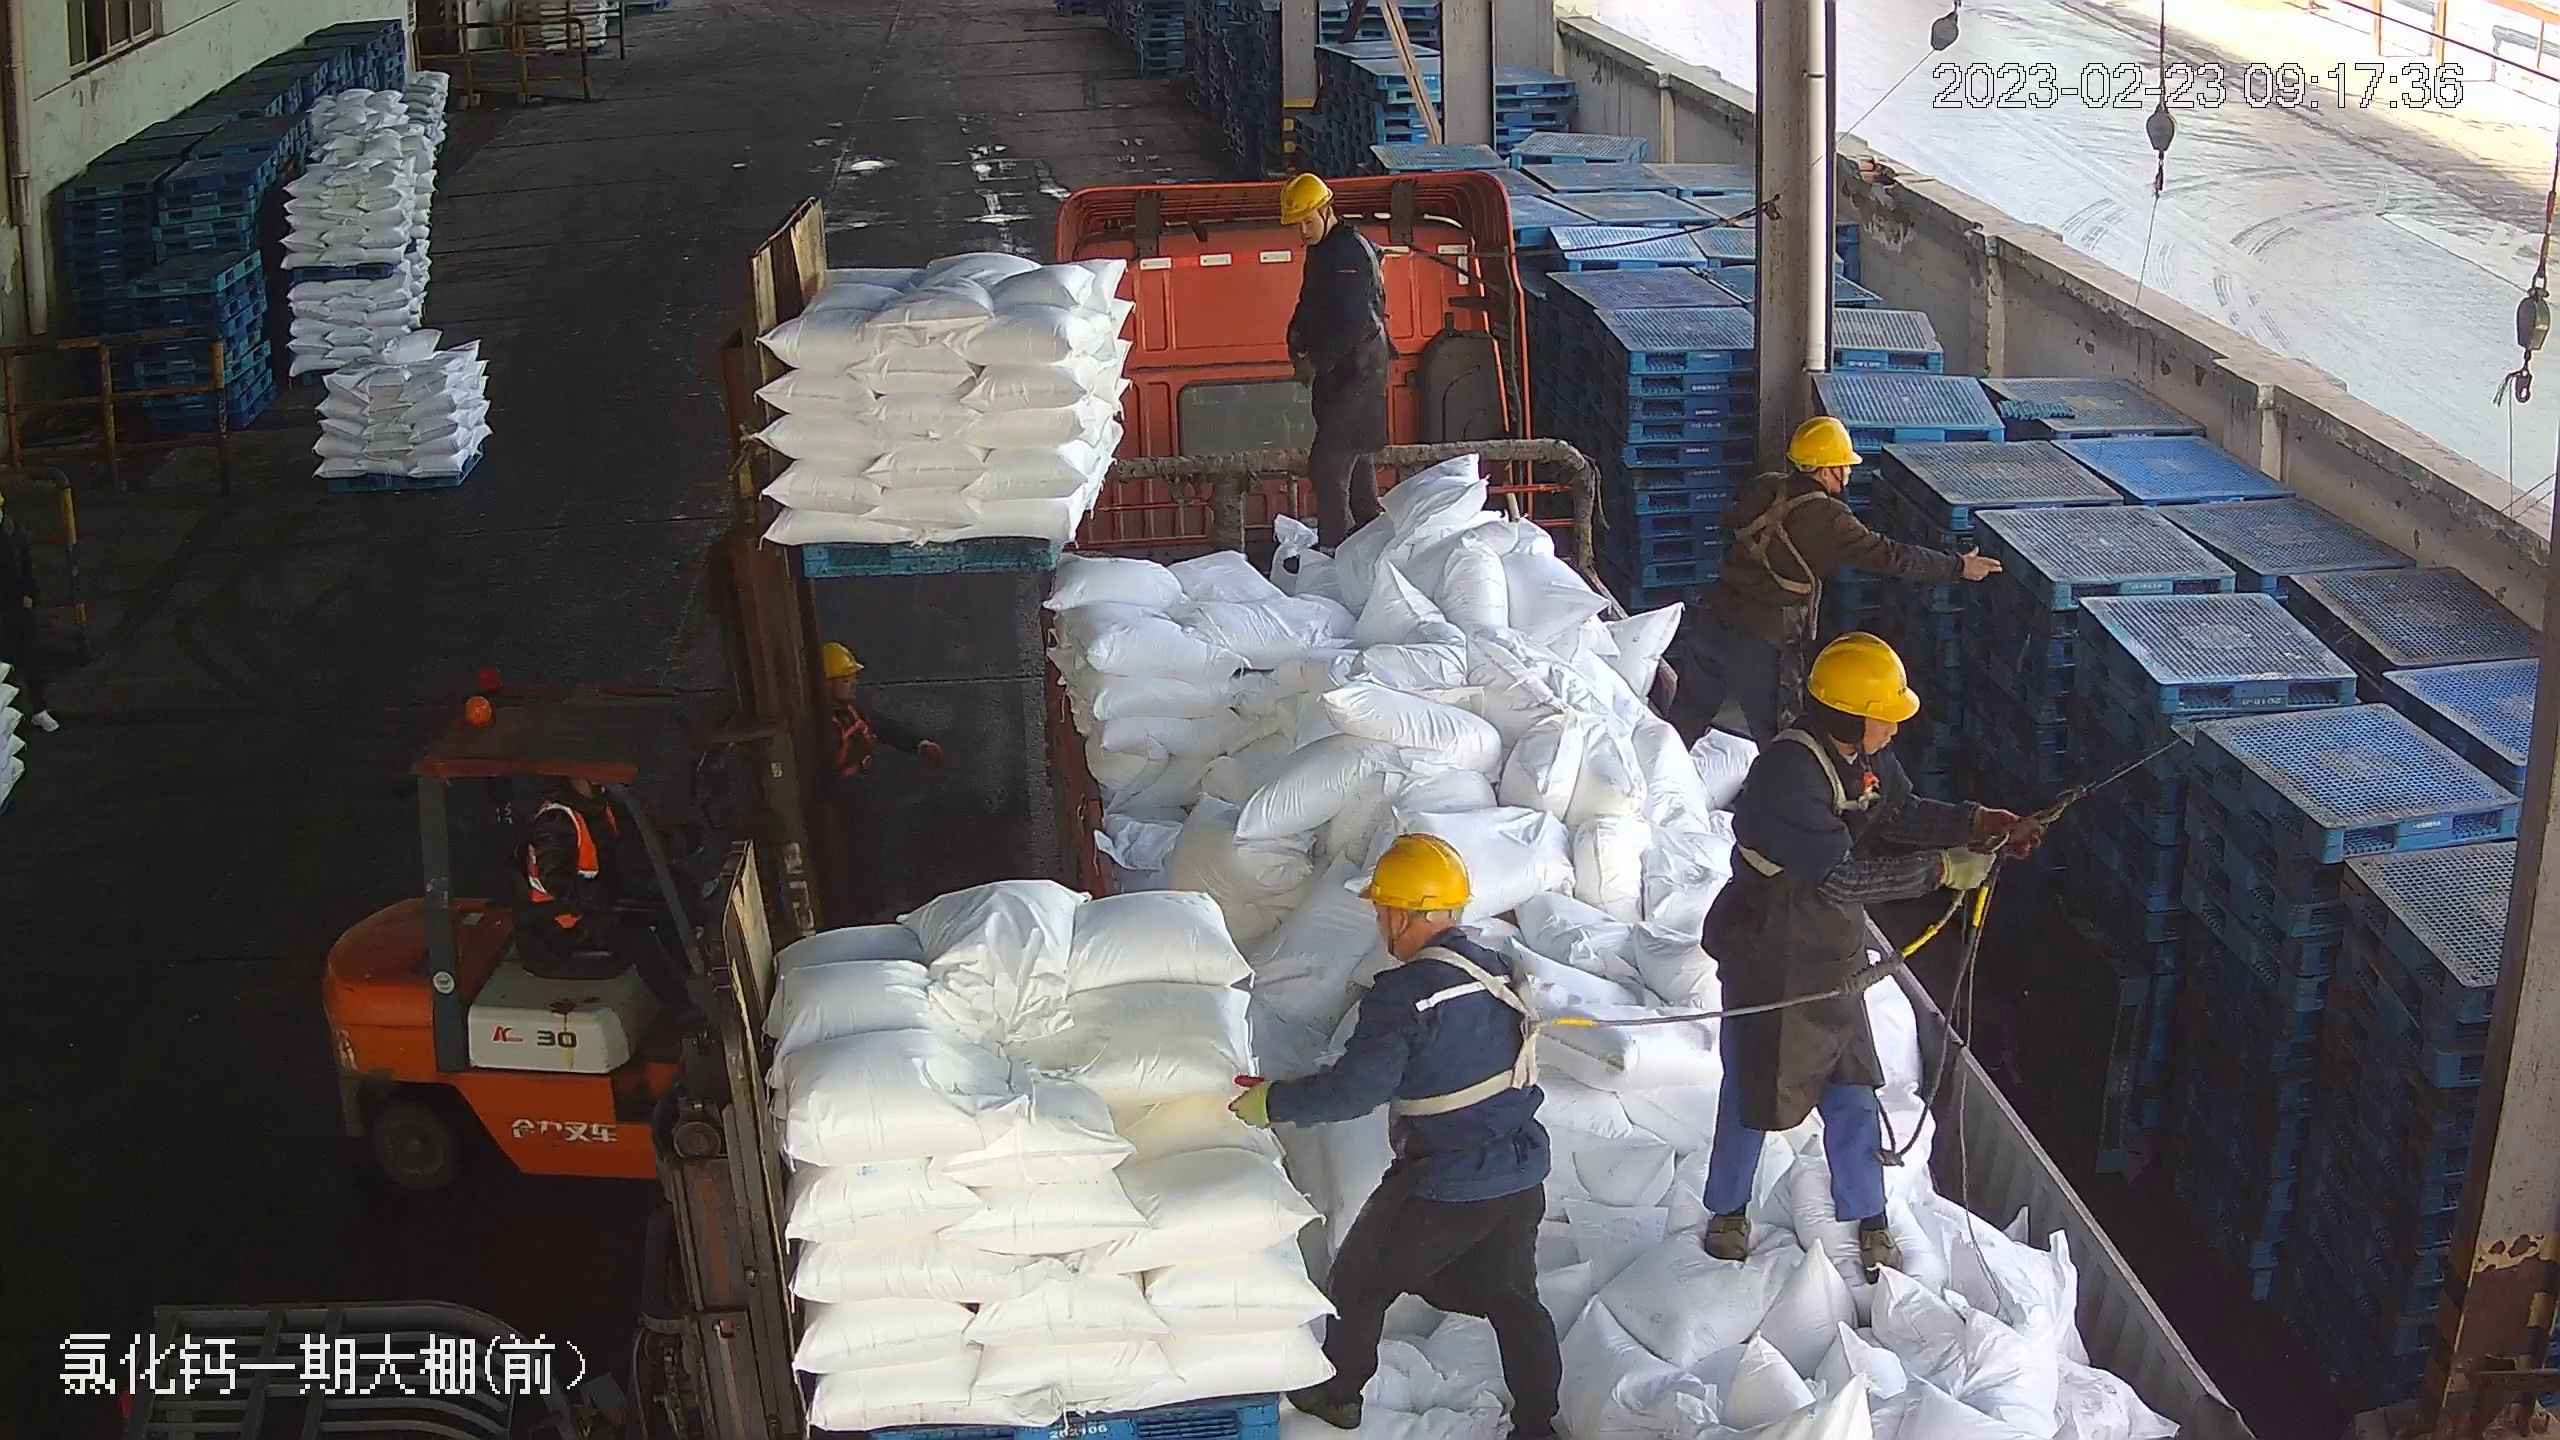belt: (1394, 949, 1590, 1113), (1742, 486, 1834, 594), (823, 697, 880, 778), (1351, 219, 1404, 290)
head: (1335, 832, 1531, 1048), (1755, 633, 1941, 845), (1755, 413, 1875, 550), (1275, 172, 1380, 293)
helmet: (1801, 630, 1927, 723), (1356, 830, 1473, 910), (1784, 411, 1862, 465), (1275, 171, 1335, 223), (813, 631, 870, 676)
people: (1686, 632, 1997, 1294), (1235, 828, 1564, 1439), (1648, 410, 1961, 753), (1276, 174, 1390, 550), (811, 646, 912, 907)
truck: (998, 168, 2241, 1424)
